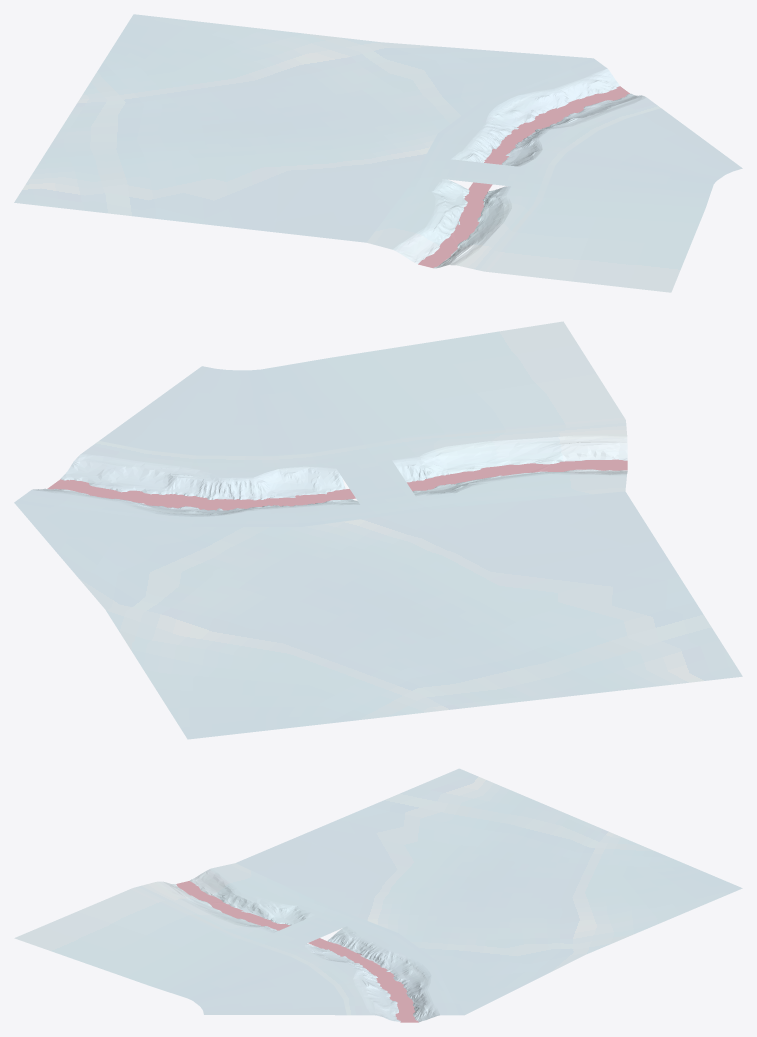
File: Church_Ground.fbx
3 renders of one model, top to bottom at view 1: azimuth 30°, elevation 25°; view 2: azimuth 150°, elevation 25°; view 3: azimuth 270°, elevation 25°, orthographic. The views are drawn at different scales.
Parts seen in each view (by area): view 1: SM_Church_Ground_01.mo; view 2: SM_Church_Ground_01.mo; view 3: SM_Church_Ground_01.mo.
Boxes of the visible parts, x1,y1,x2,y2 form: SM_Church_Ground_01.mo: [14, 14, 742, 292]; SM_Church_Ground_01.mo: [14, 321, 742, 739]; SM_Church_Ground_01.mo: [14, 768, 742, 1022].
Bounding box in the file's own units: 13699 × 187 × 17093.
